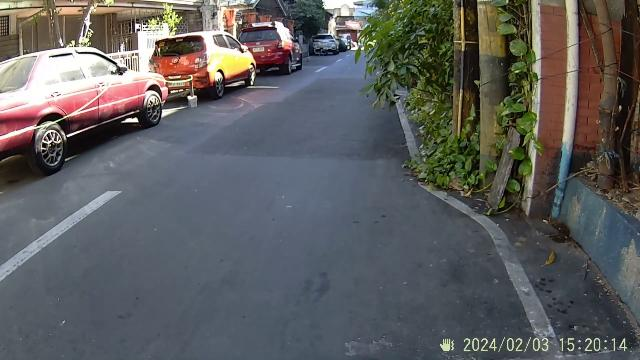utility_post: (452, 0, 508, 168)
